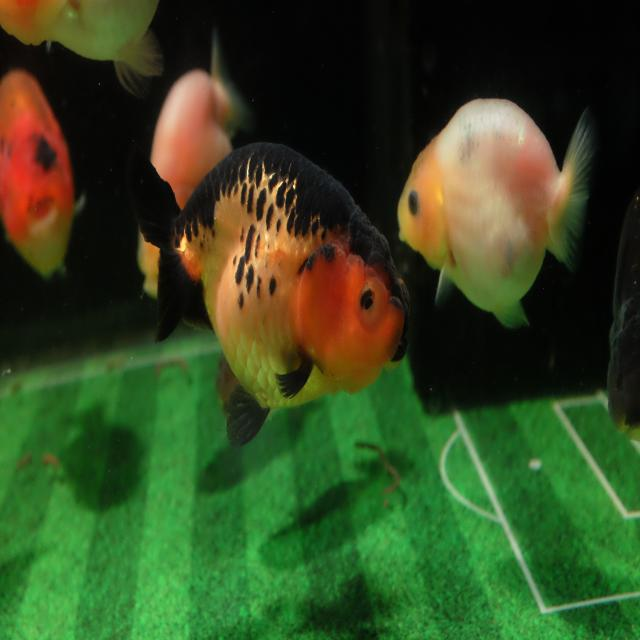Tilapia: (135, 137, 411, 451), (396, 95, 594, 330), (0, 69, 86, 285), (0, 0, 166, 98)
